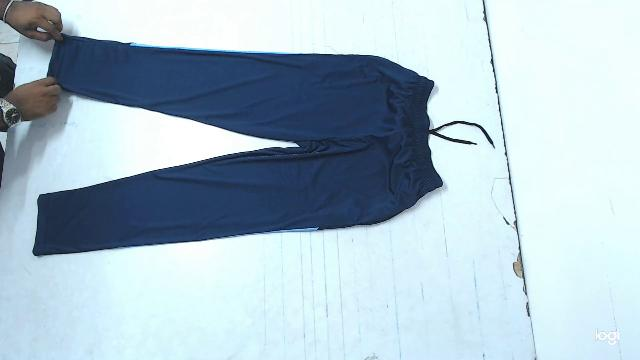new-garment: (33, 36, 450, 255)
